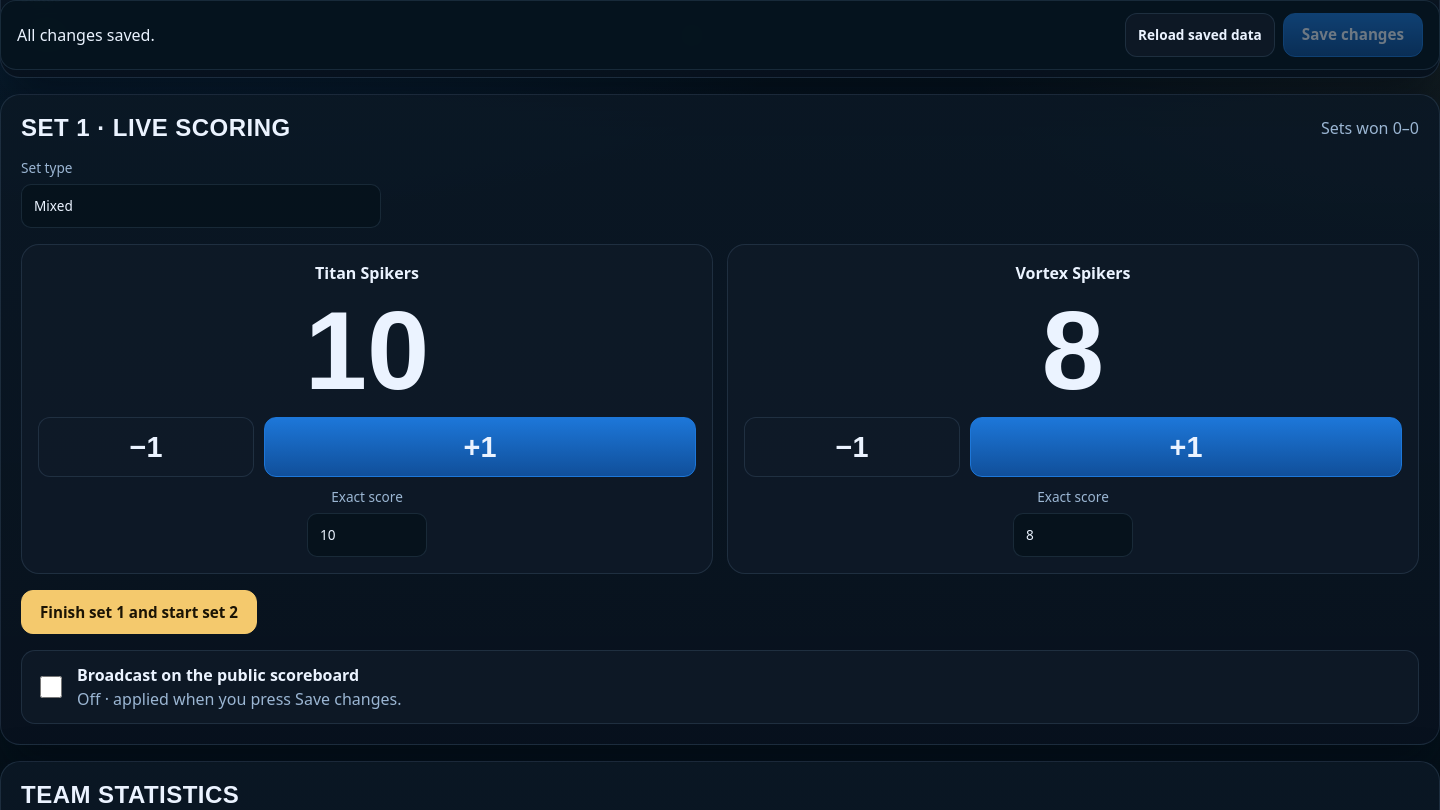
Test: match editor: drafts stay private until saved › discard returns to the saved values
(page scrolled)
Click the button named "add a point to titan spikers": point(480, 447) x1=264 y1=417 x2=696 y2=477
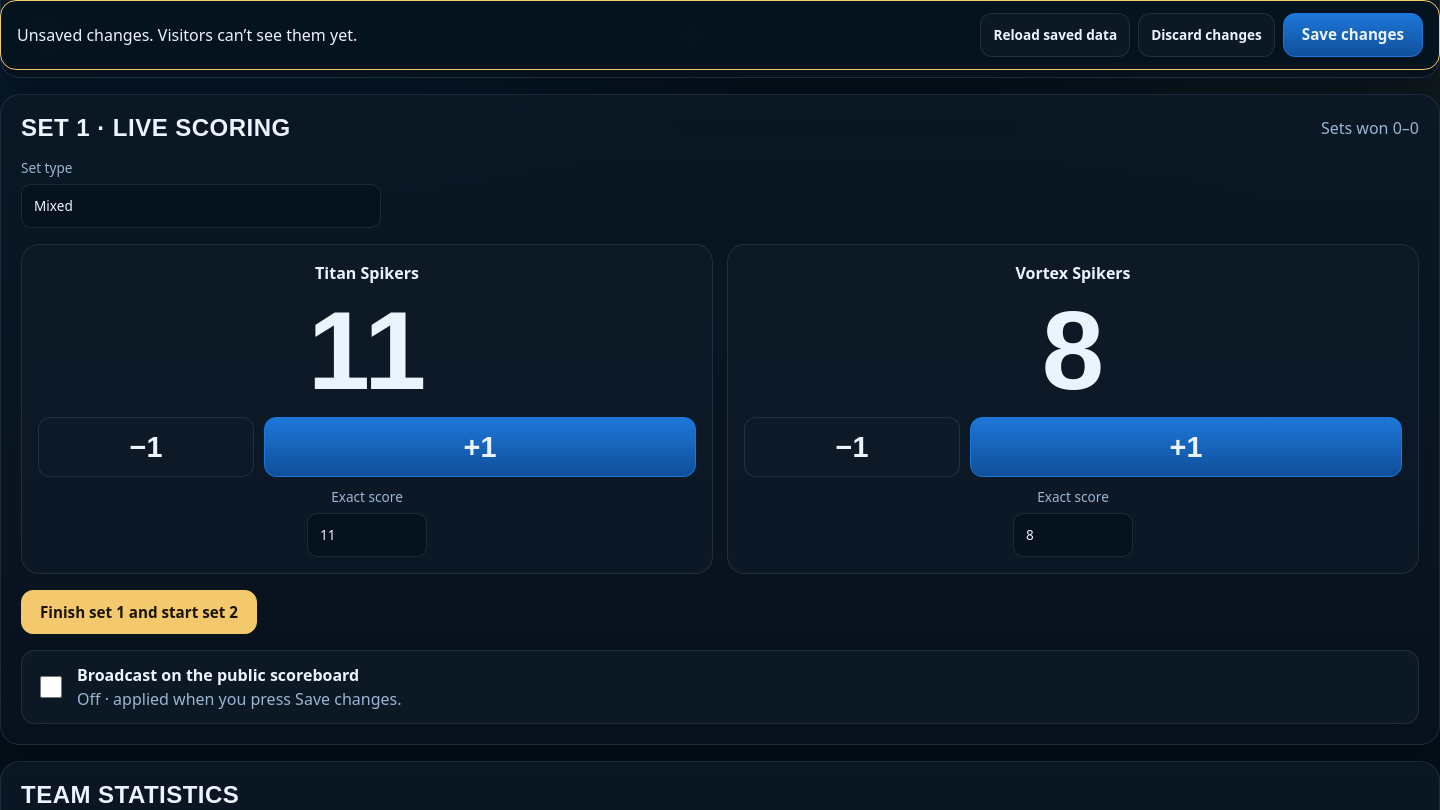
Click the button "Discard changes": point(1207, 35) x1=1138 y1=13 x2=1275 y2=57
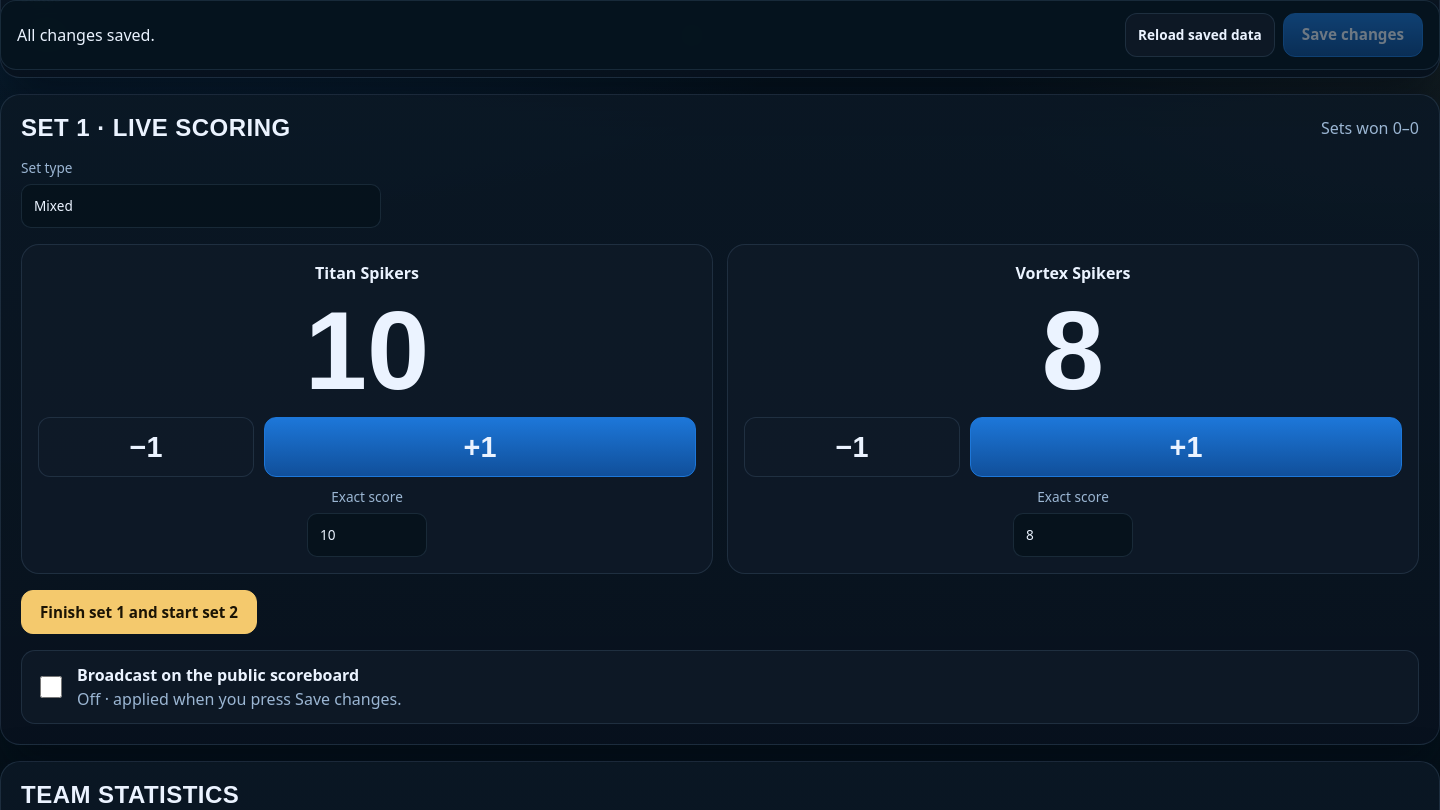
Expected: the text "All changes saved." is shown, x1=17 y1=23 x2=155 y2=47
